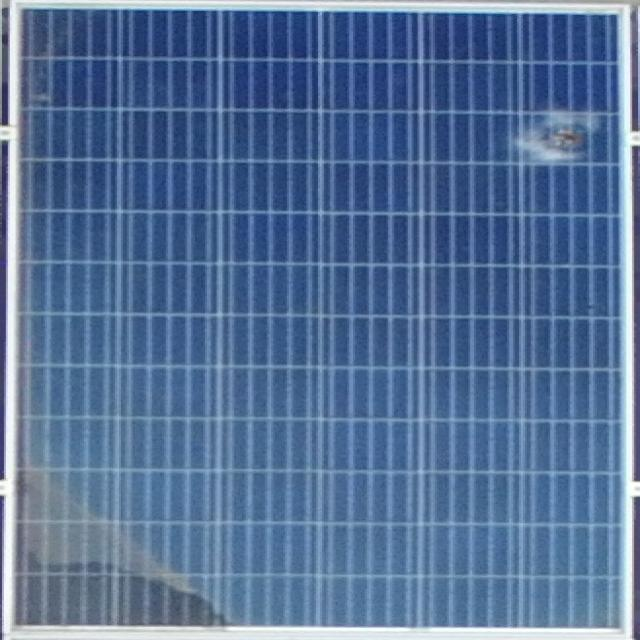Dust: (19, 435, 236, 634)
bird-droppings: (511, 108, 612, 166), (14, 83, 66, 114)
